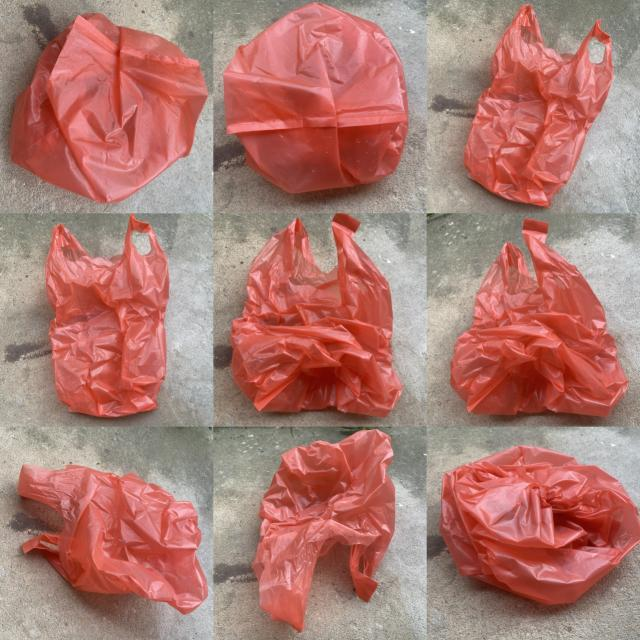Single-layer Plastic: (9, 14, 208, 203), (450, 219, 629, 416), (224, 2, 408, 192), (230, 214, 402, 416), (440, 446, 640, 604), (464, 5, 614, 206), (252, 430, 395, 631), (18, 465, 208, 613), (45, 214, 169, 417)
